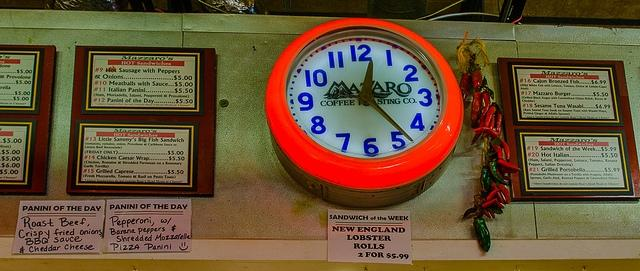hot pepper: (470, 91, 482, 128), (496, 181, 510, 204), (497, 158, 521, 171), (473, 126, 499, 138), (490, 182, 504, 204), (484, 106, 496, 127), (460, 73, 470, 98), (499, 138, 510, 160), (486, 188, 502, 202), (491, 143, 504, 160), (482, 90, 490, 117), (472, 69, 482, 88), (495, 108, 502, 132), (482, 198, 498, 208), (480, 197, 483, 205), (494, 125, 496, 129)
